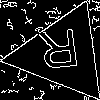R: (37, 28, 83, 79)
